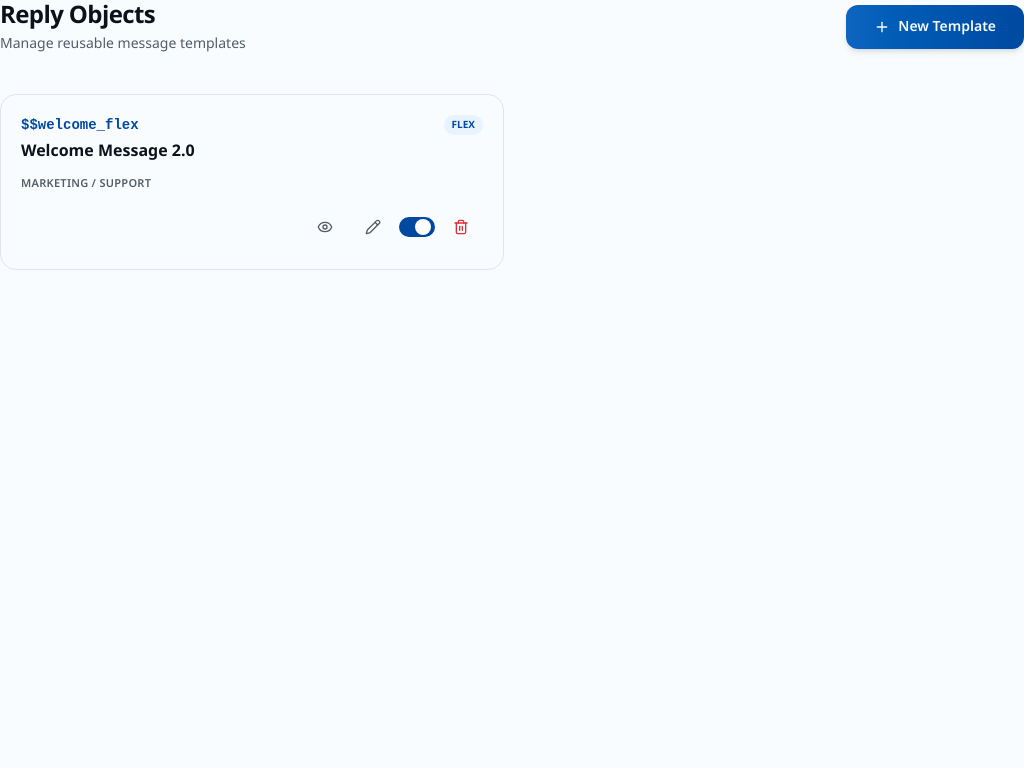
Scenario: ReplyObjectsClient กริด JSK › preview แสดง "invalid flex" เมื่อ payload ว่าง
expect the text "$$welcome_flex" is shown: met, box [21, 117, 139, 133]
Click the button named "แก้ไข welcome_flex".
click(373, 227)  # box [351, 205, 395, 249]
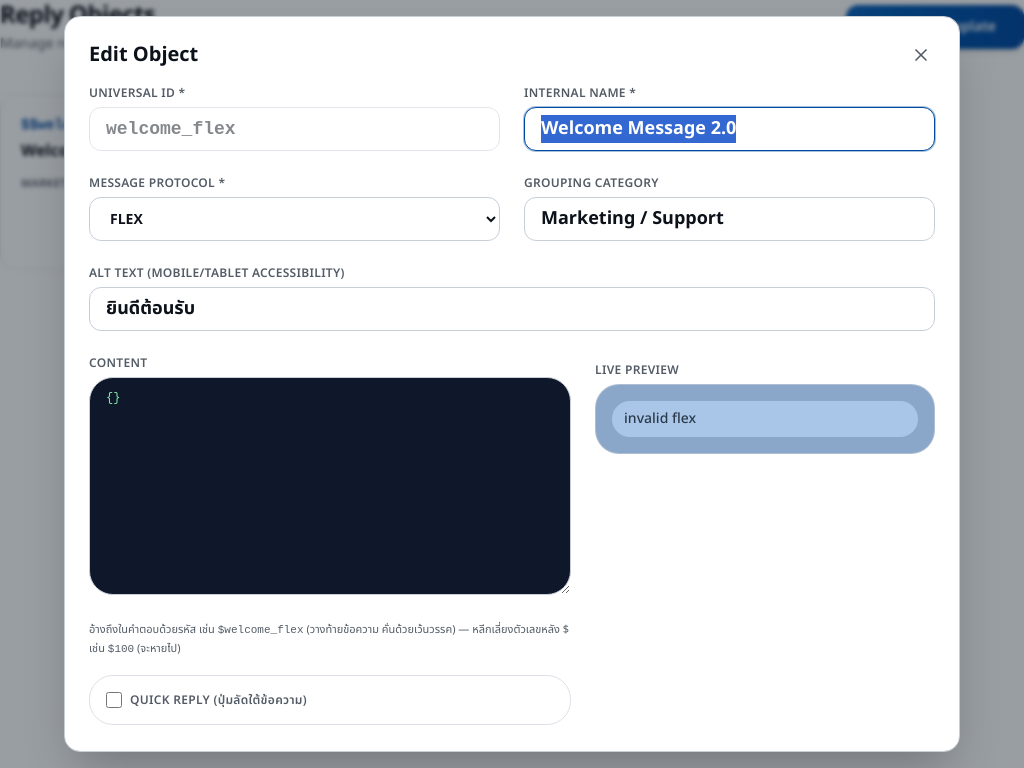
expect the text "invalid flex" is shown: met, box [612, 401, 918, 437]
